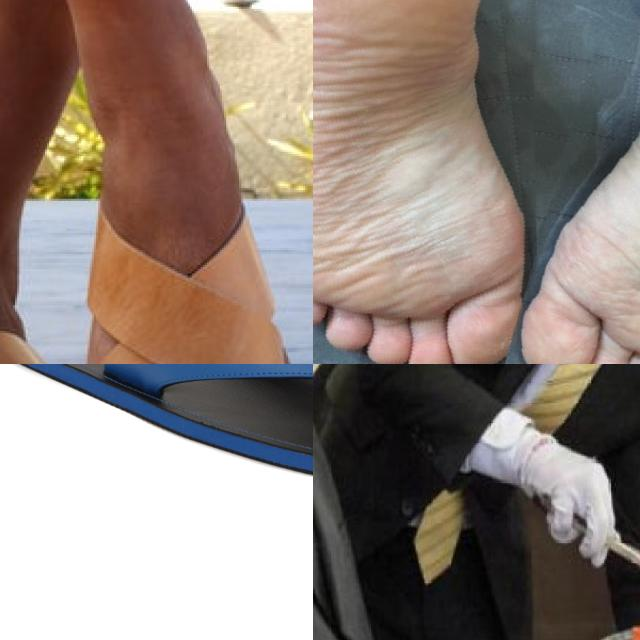Barefoots: (313, 0, 542, 364)
Sandals: (85, 178, 303, 364), (0, 364, 313, 487), (0, 246, 102, 364)
hand_glove: (528, 449, 621, 566)
person: (333, 364, 640, 640)
